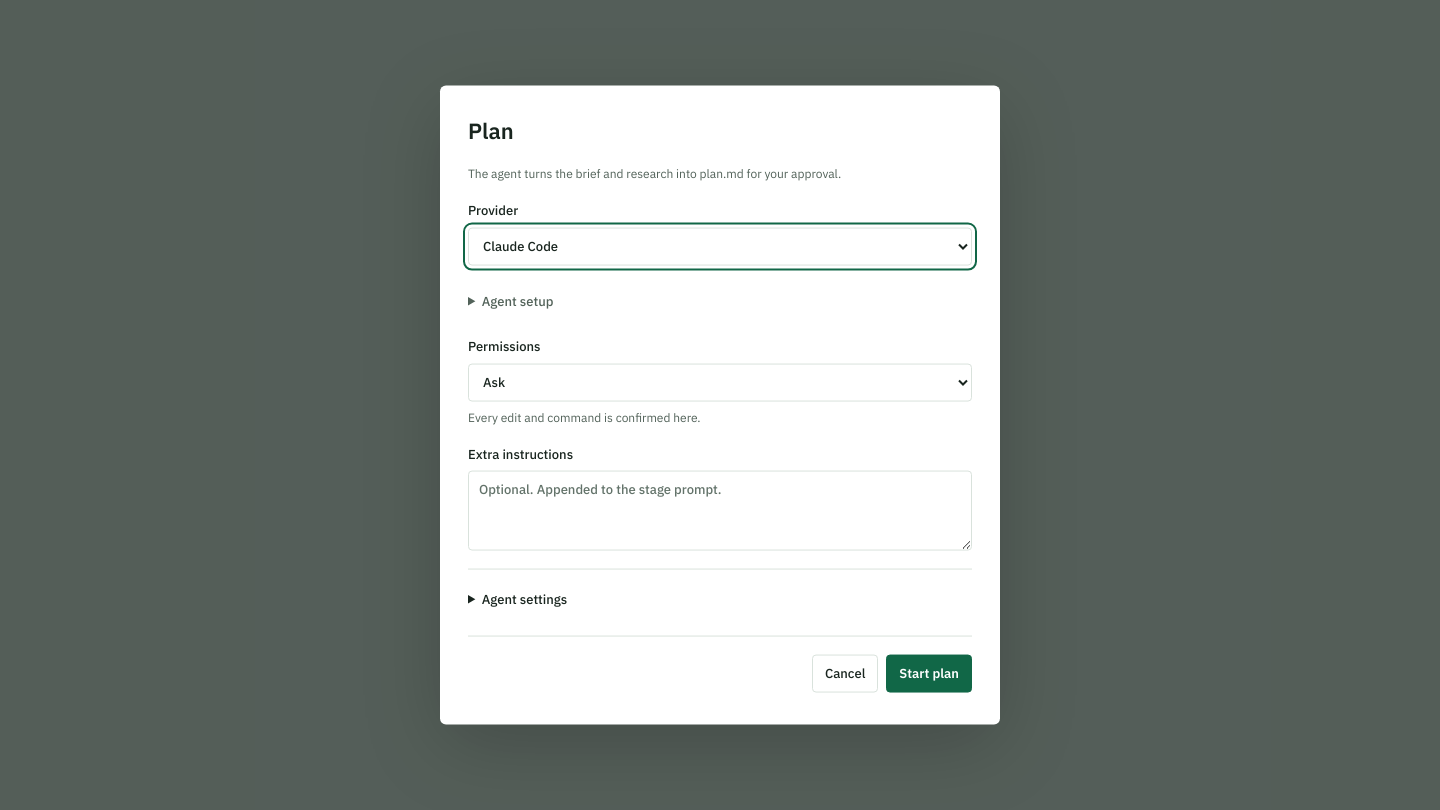
Test: refreshes stale run status before starting
Click the button "Start plan".
click(929, 673)  # box [886,654,972,692]
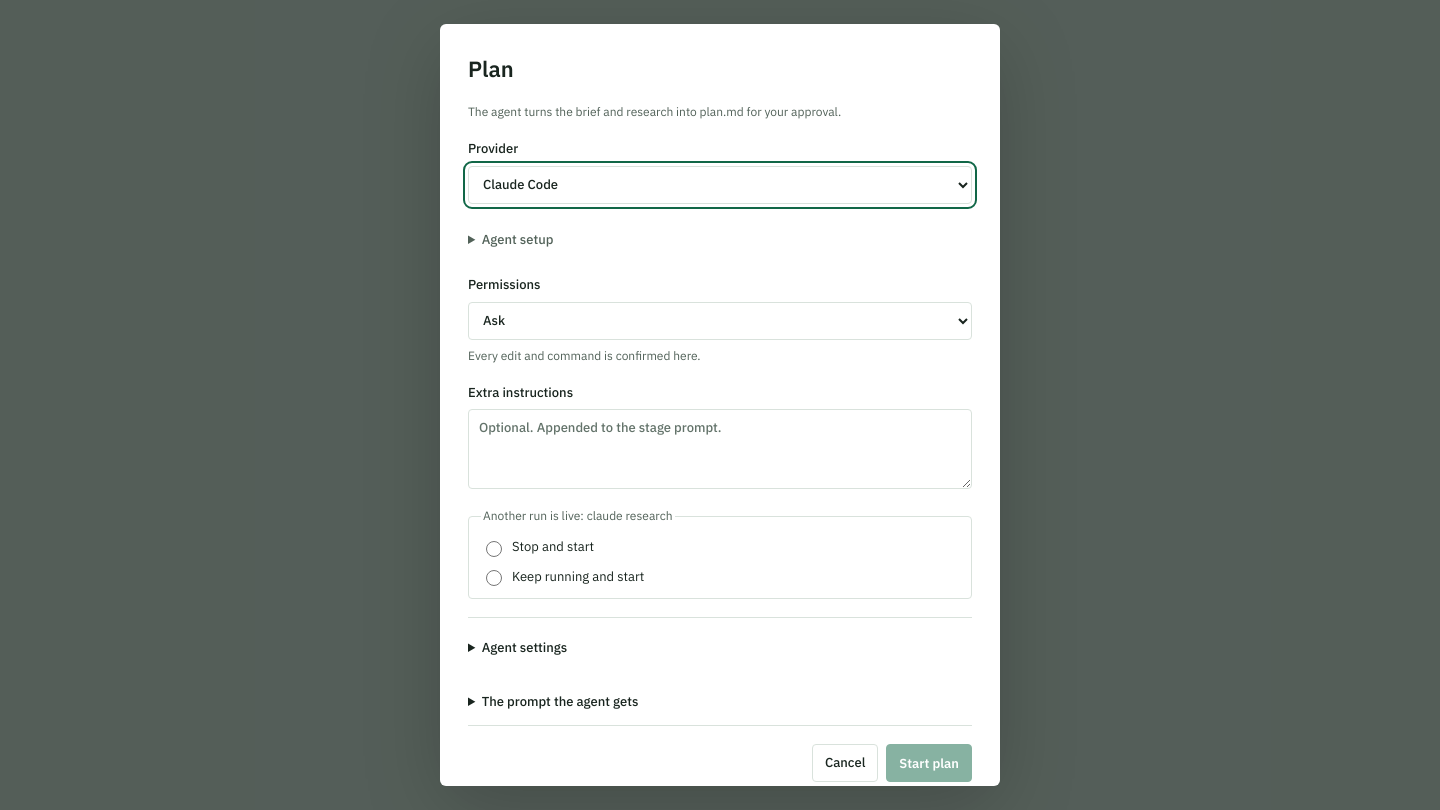
Result: the text "Choose what to do with the live run before starting another." is shown at [468,738,812,755]
